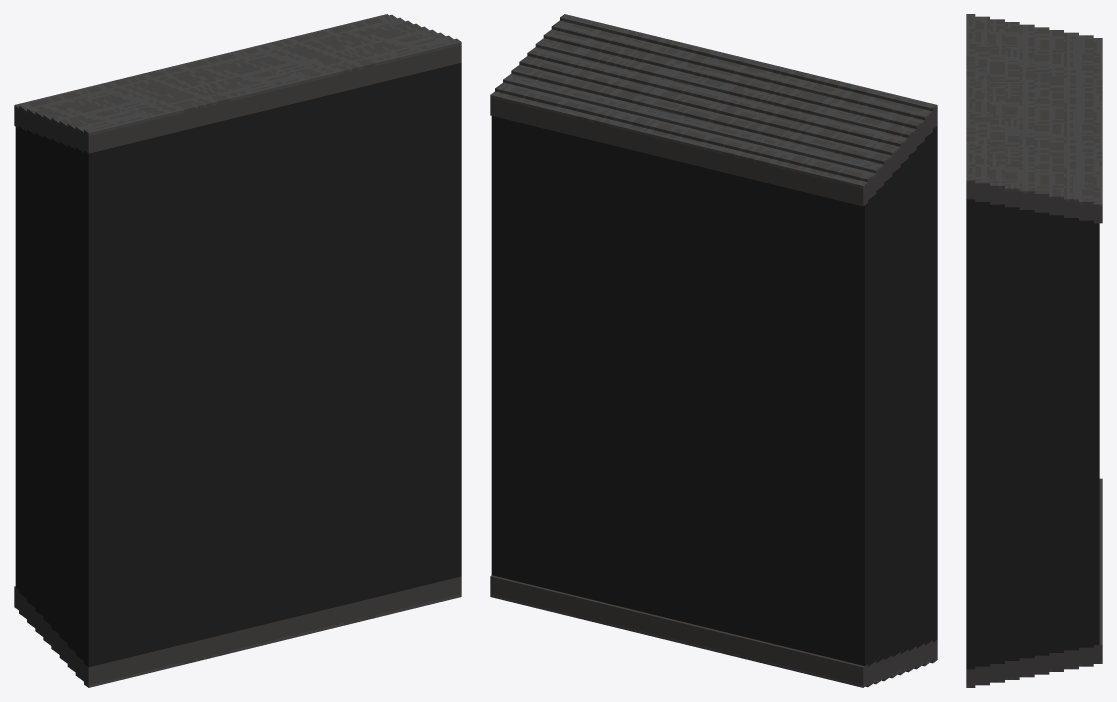
Rendered from Space ship-8.obj.
3 renders of one model, left to right at view 1: azimuth 30°, elevation 25°; view 2: azimuth 150°, elevation 25°; view 3: azimuth 270°, elevation 25°, orthographic. The views are drawn at different scales.
Bounding box in the file's own units: 13.3 × 18.9 × 4.6.
Materials: 1 (1 with a texture image).
